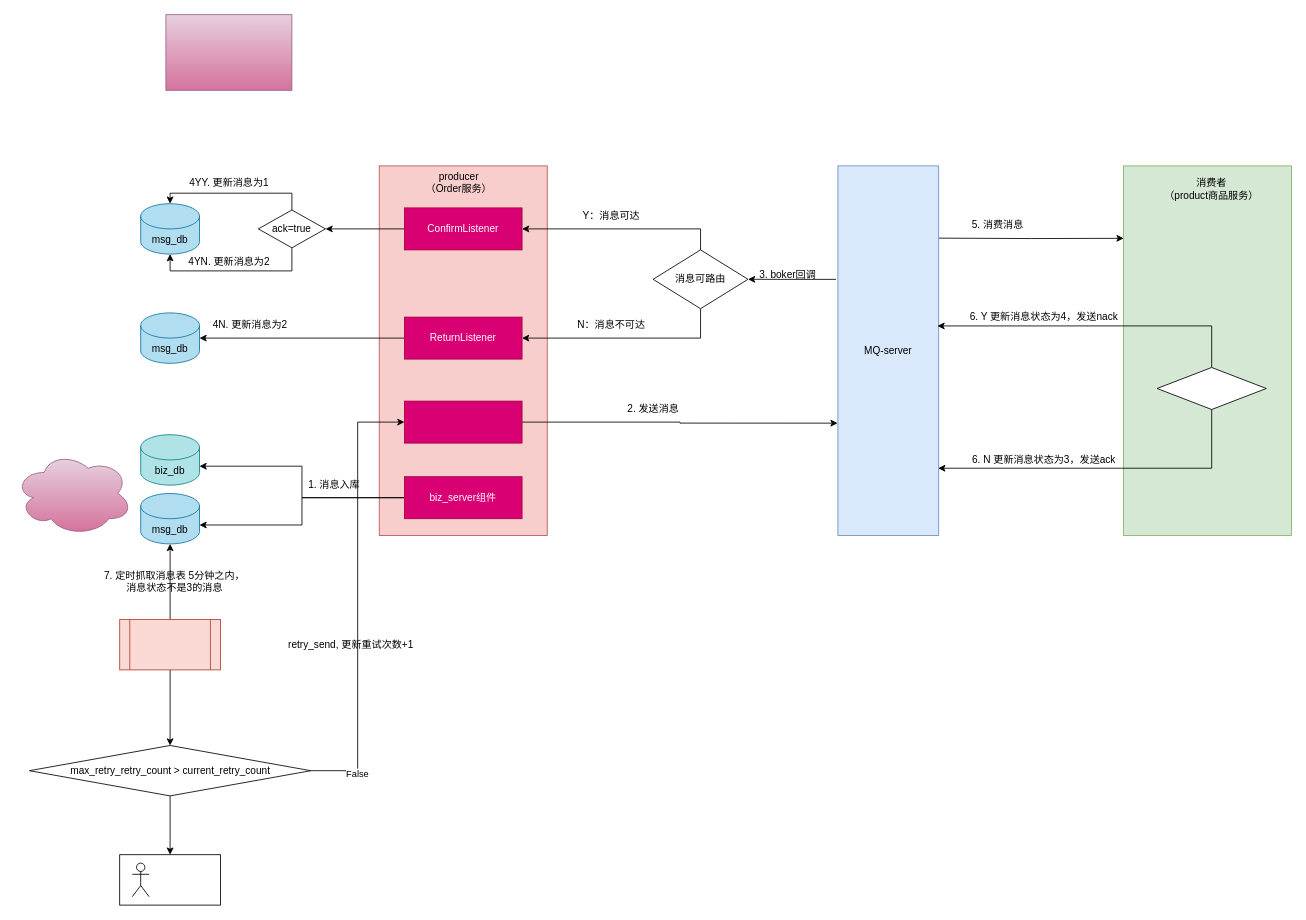
The diagram is 1306 pixels wide and 920 high, and some of its shapes have lost their labels. The shapes that lost their labels are listed below. From the top down, each one's box as (x1, y1, x2, y2) in pixels, then its label:
(165, 14, 292, 90): 消息状态： 0：发送中 1：mq服务签收消息成功 2：mq服务签收消息失败 3：消费端签收消息成功 4：消费端签收消息失败
(1156, 367, 1266, 410): 消费消息异常
(404, 400, 522, 443): sender
(14, 451, 132, 536): 插入，需要在同一个事物中（跨库事务）
(119, 619, 220, 670): 定时任务
(119, 854, 220, 905): 人工补偿
